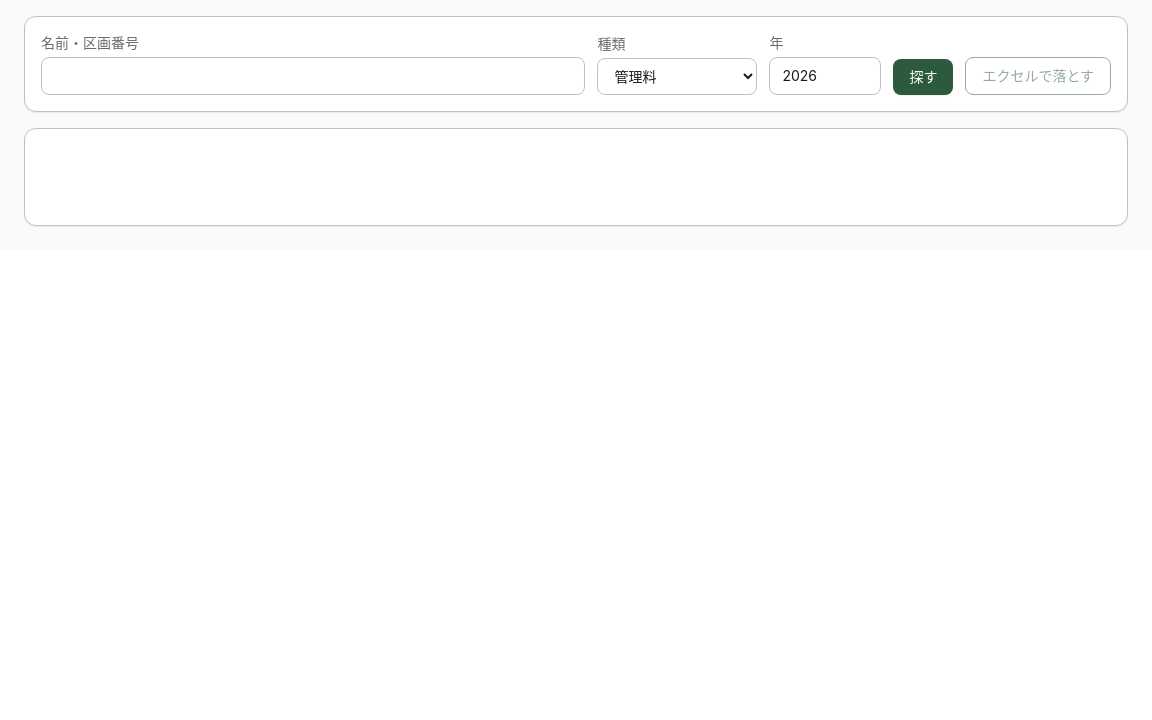
CashierPaymentPage › 使用料の0円は1円以上と出て送らない
In the field: [313, 76] box [41,57,585,95], type "田中"
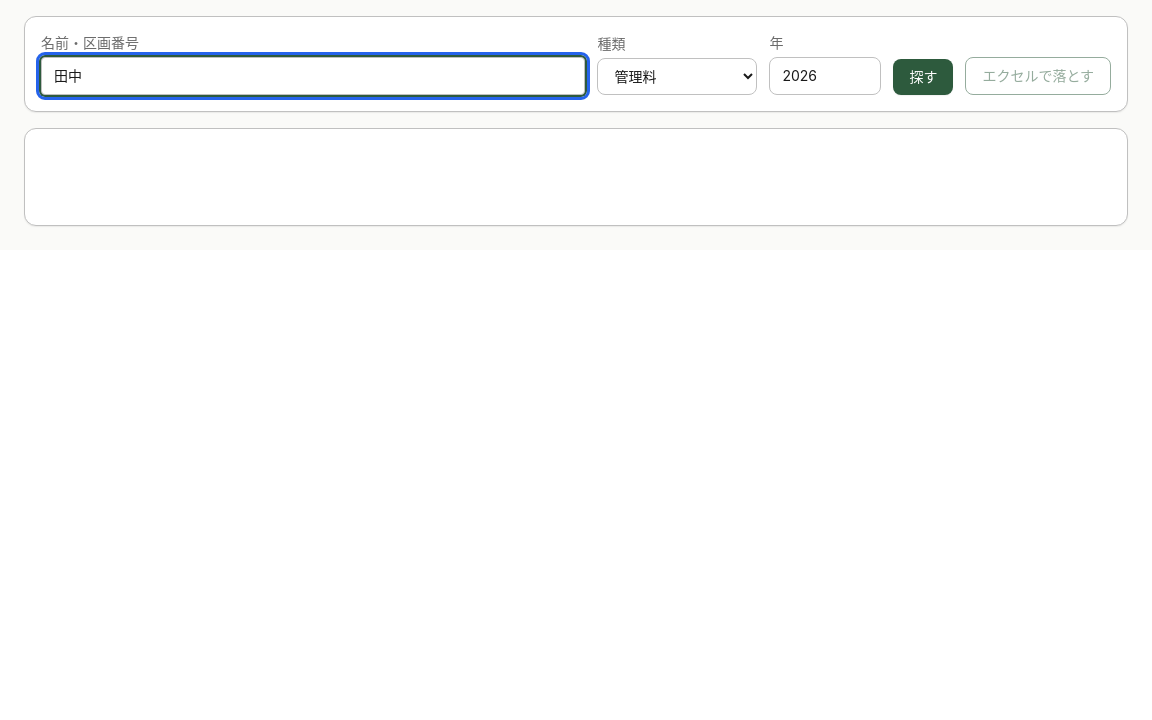
Click the button "探す": [923, 77] box [893,59,953,95]
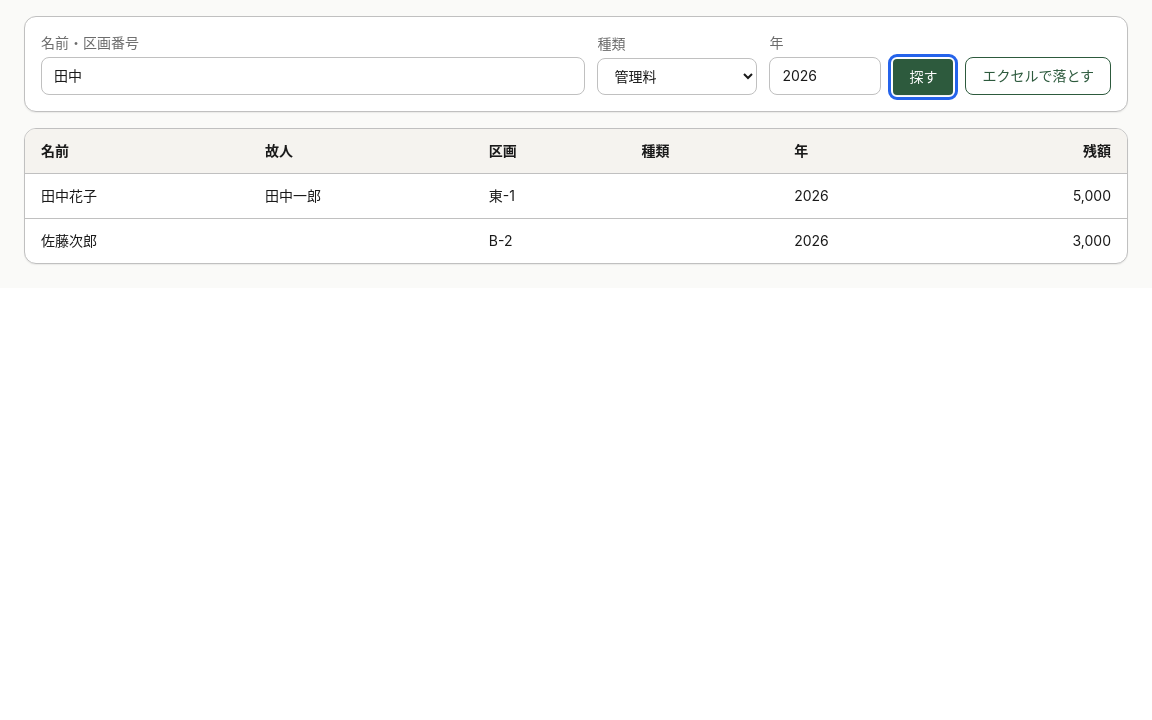
Click the text "佐藤次郎": [69, 240] box [25,218,249,263]
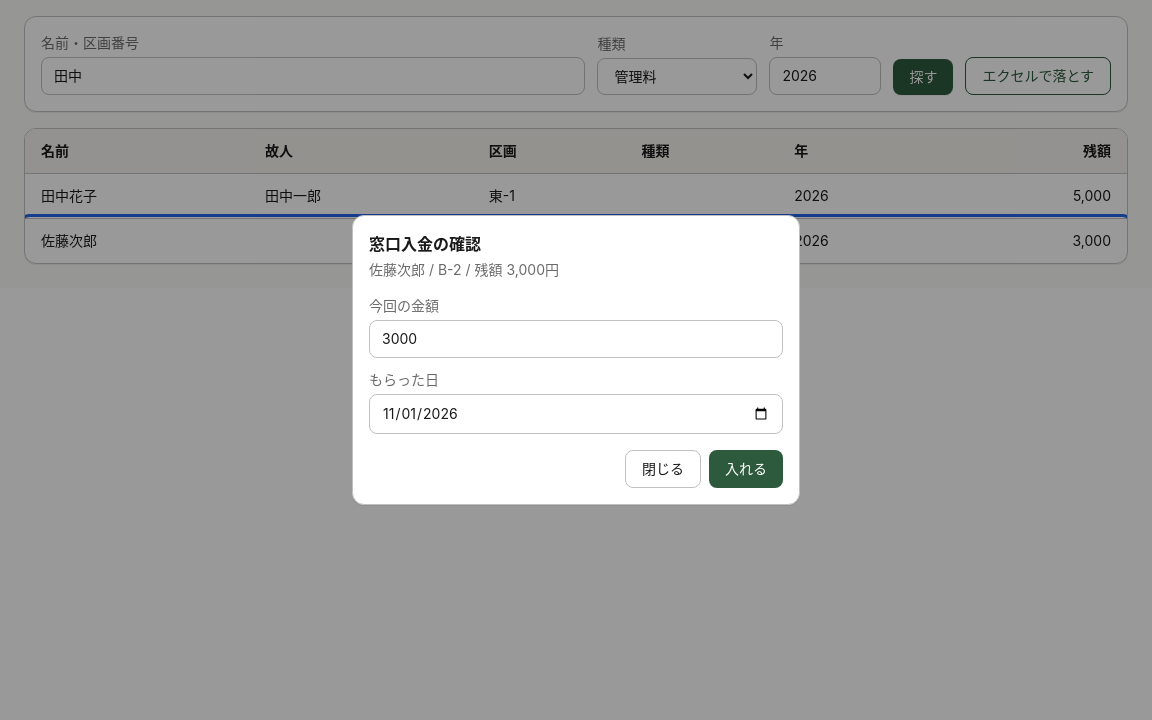
Replace the text in the number field labelled "今回の金額" with "0": [576, 339] box [369,320,783,358]
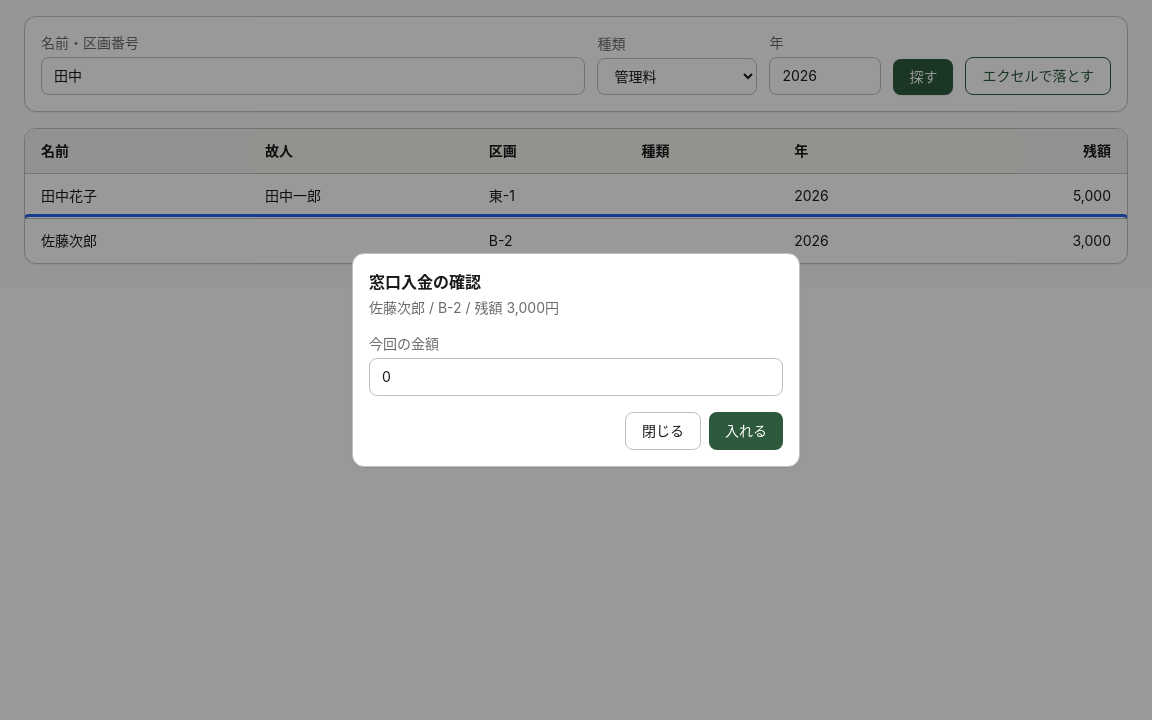
Click the button "入れる": [746, 431] box [709,412,783,450]
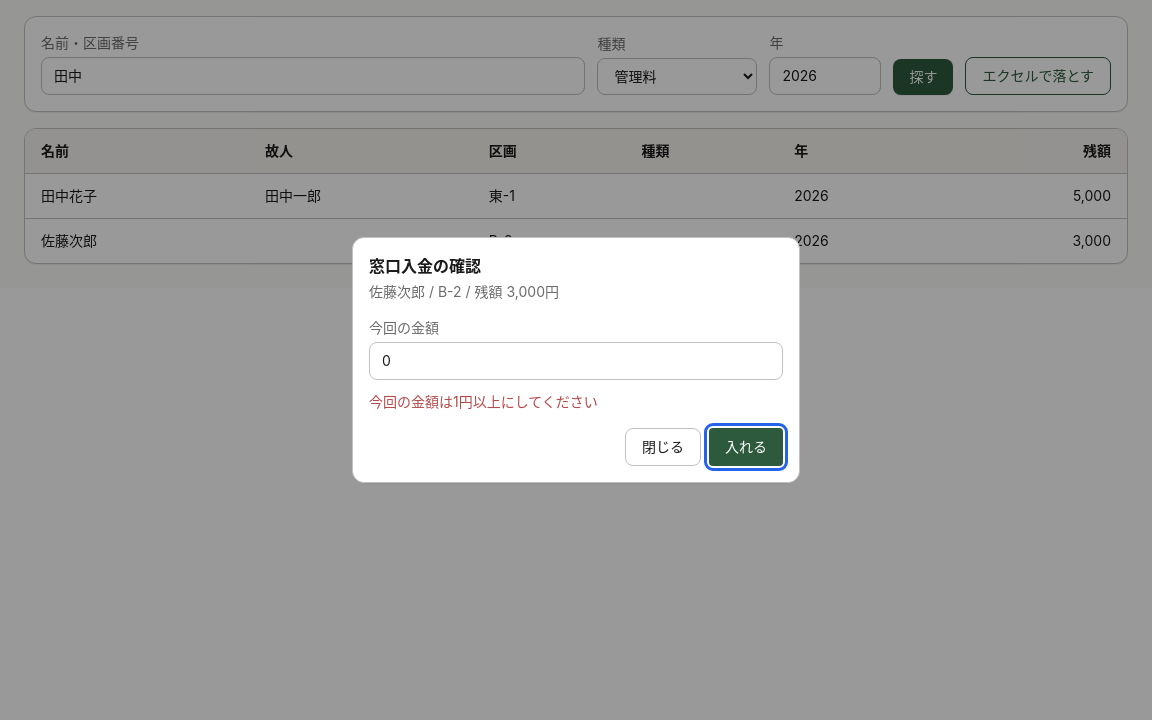
Result: the text "今回の金額は1円以上にしてください" is shown at [369,393,598,410]
